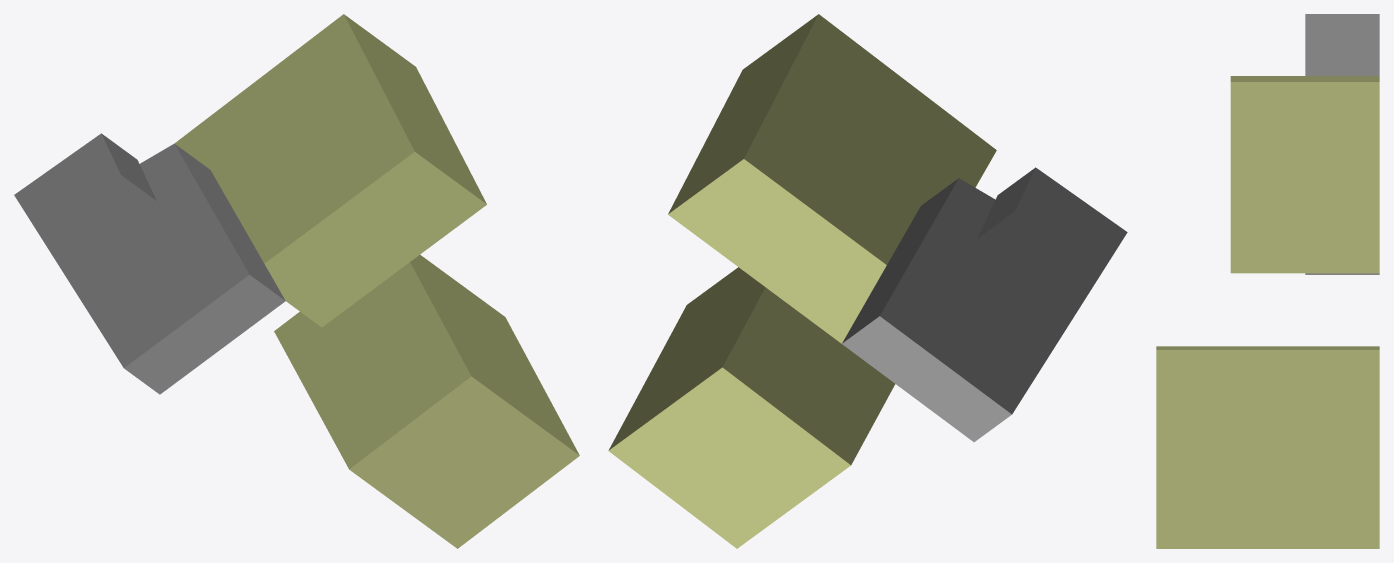
3 views of the same model, side by side, from view 1: azimuth 30°, elevation 25°; view 2: azimuth 150°, elevation 25°; view 3: azimuth 270°, elevation 25° (orthographic). The views are drawn at different scales.
Parts seen in each view (by area): view 1: 0_1_0_2_0_0_1_3_2_0; view 2: 0_1_0_2_0_0_1_3_2_0; view 3: 0_1_0_2_0_0_1_3_2_0.
Boxes of the visible parts, x1,y1,x2,y2 form: 0_1_0_2_0_0_1_3_2_0: (14, 14, 579, 548); 0_1_0_2_0_0_1_3_2_0: (608, 14, 1127, 548); 0_1_0_2_0_0_1_3_2_0: (1156, 14, 1379, 548).
Bounding box in the file's own units: 21.91 × 20.91 × 9.
